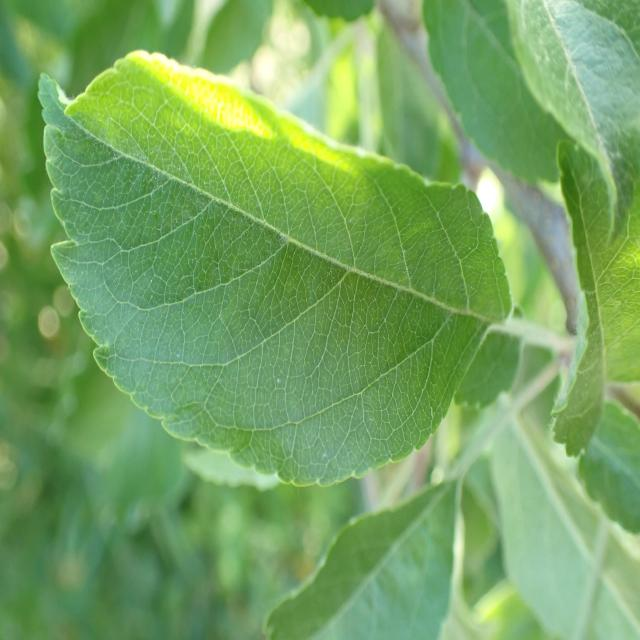healthy: (36, 49, 514, 489), (263, 474, 460, 640), (549, 133, 640, 460), (421, 0, 573, 186), (575, 400, 640, 535)
